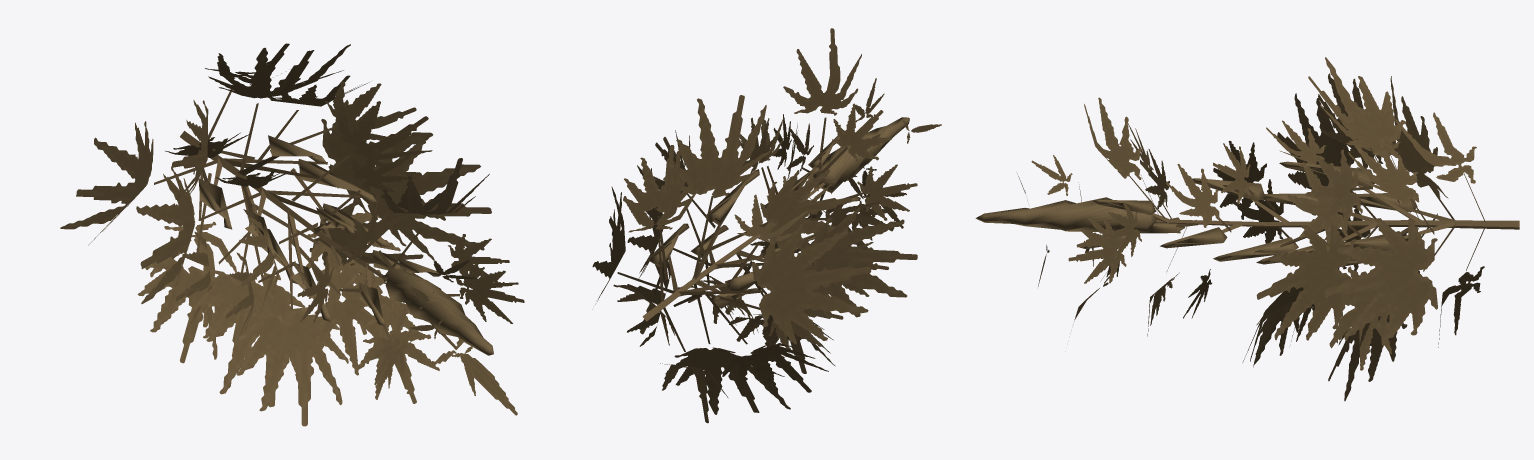
The model's file is p_landrace_flowering_c3_cards.obj.
3 renders of one model, left to right at view 1: azimuth 30°, elevation 25°; view 2: azimuth 150°, elevation 25°; view 3: azimuth 270°, elevation 25°, orthographic. The views are drawn at different scales.
Bounding box in the file's own units: 1.71 × 1.69 × 2.12.
Materials: 1 (1 with a texture image).
